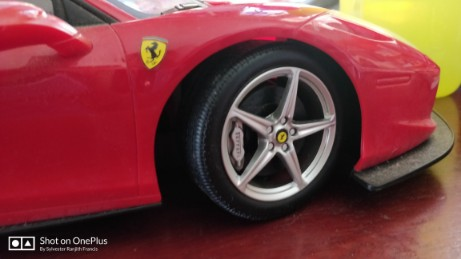unaligned_wheel: (176, 41, 355, 221)
